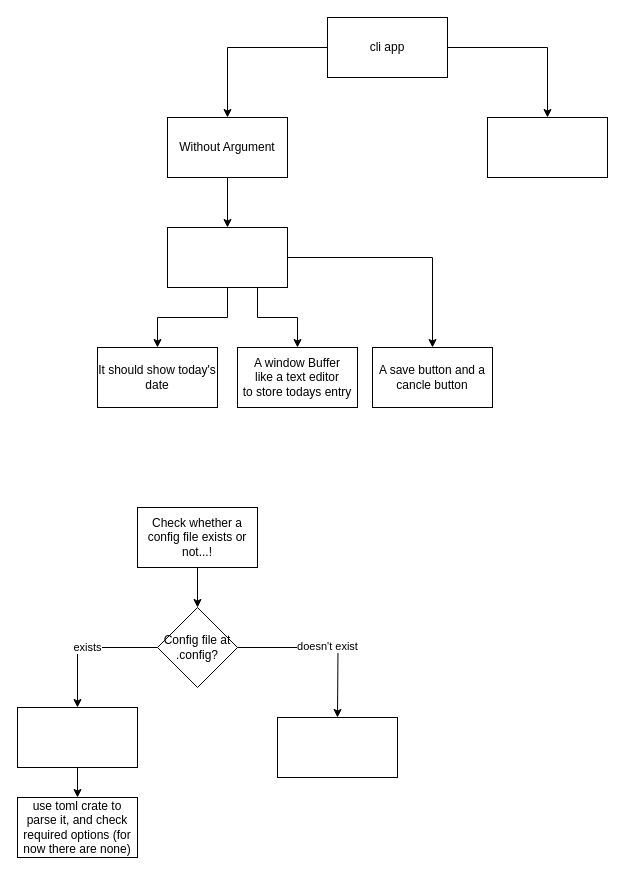
Some shapes in this 625 by 875 pixel diagram are drawn without their labels. The shapes that lost their labels are listed below. From the top down, each one's centre as x and y in pixels, then its label:
At point 547,147: "With Argument".
At point 227,257: "Ratatui Window Buffer".
At point 77,737: "Parse the configuration file".
At point 337,747: "Make that directory at ~/.config/mdm".
